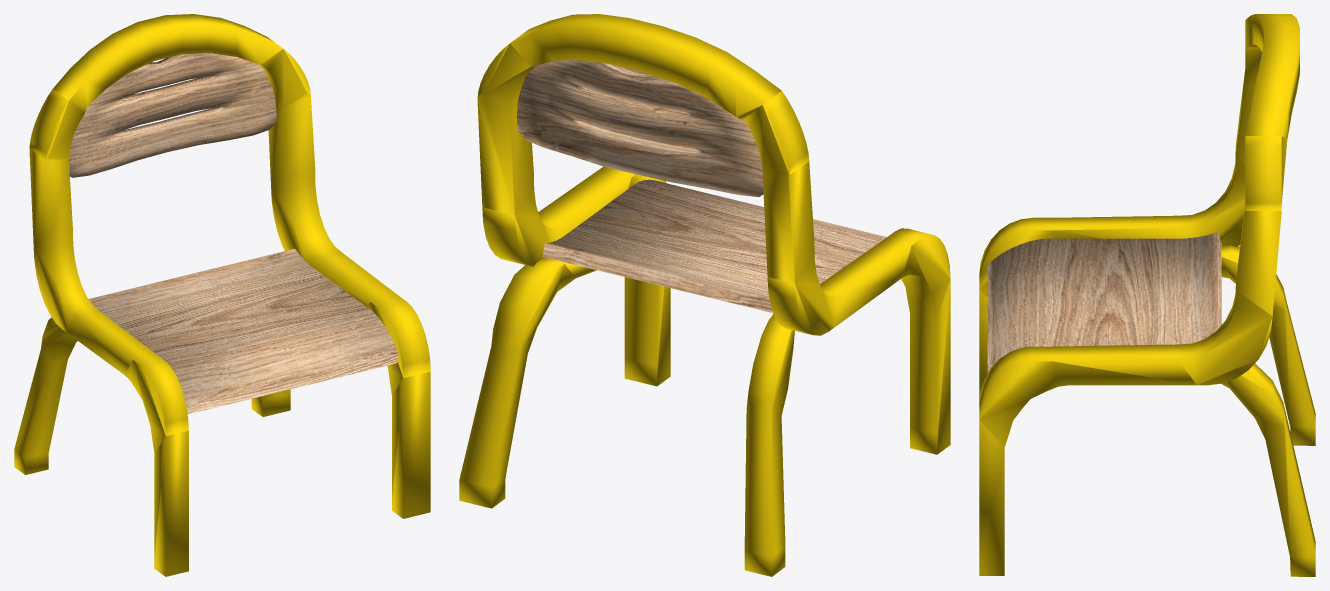
File: chair.fbx
3 renders of one model, left to right at view 1: azimuth 30°, elevation 25°; view 2: azimuth 150°, elevation 25°; view 3: azimuth 270°, elevation 25°, orthographic. The views are drawn at different scales.
Visible parts, largest first — view 1: chaise; view 2: chaise; view 3: chaise.
Part boxes in pixels (box(x1,y1,x2,y2)): chaise: box(14, 14, 430, 576); chaise: box(459, 14, 950, 576); chaise: box(979, 14, 1315, 576).
Size of the model in its own units: 0.6034 by 0.9176 by 0.5977.
2 materials, 1 textured.
